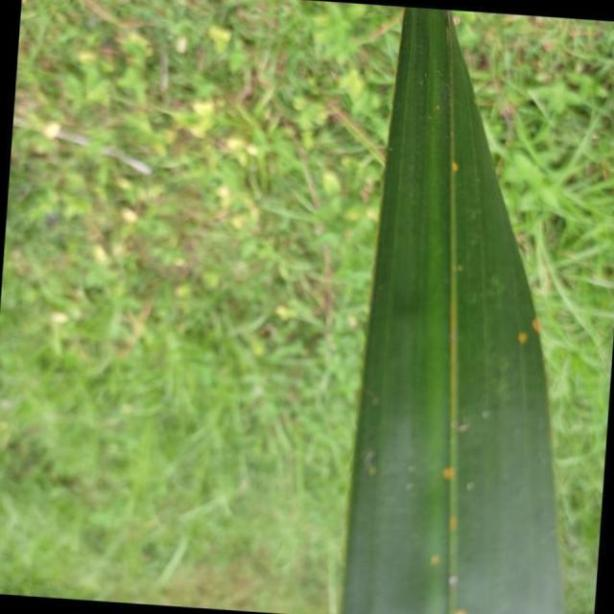Boron: (339, 0, 568, 614)
